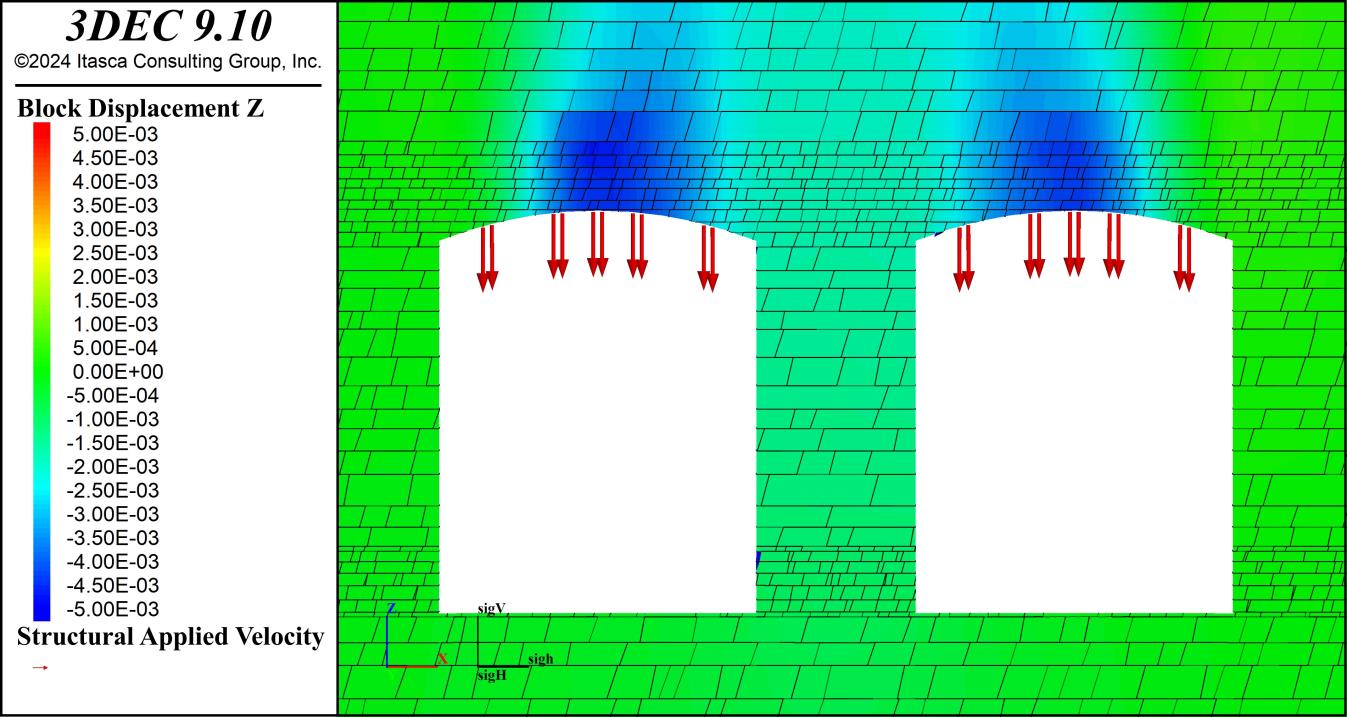crown: (552, 186, 630, 209), (1040, 185, 1114, 209)
label: (4, 0, 334, 716)
tunnel-opening: (915, 210, 1232, 614), (444, 213, 756, 614)
